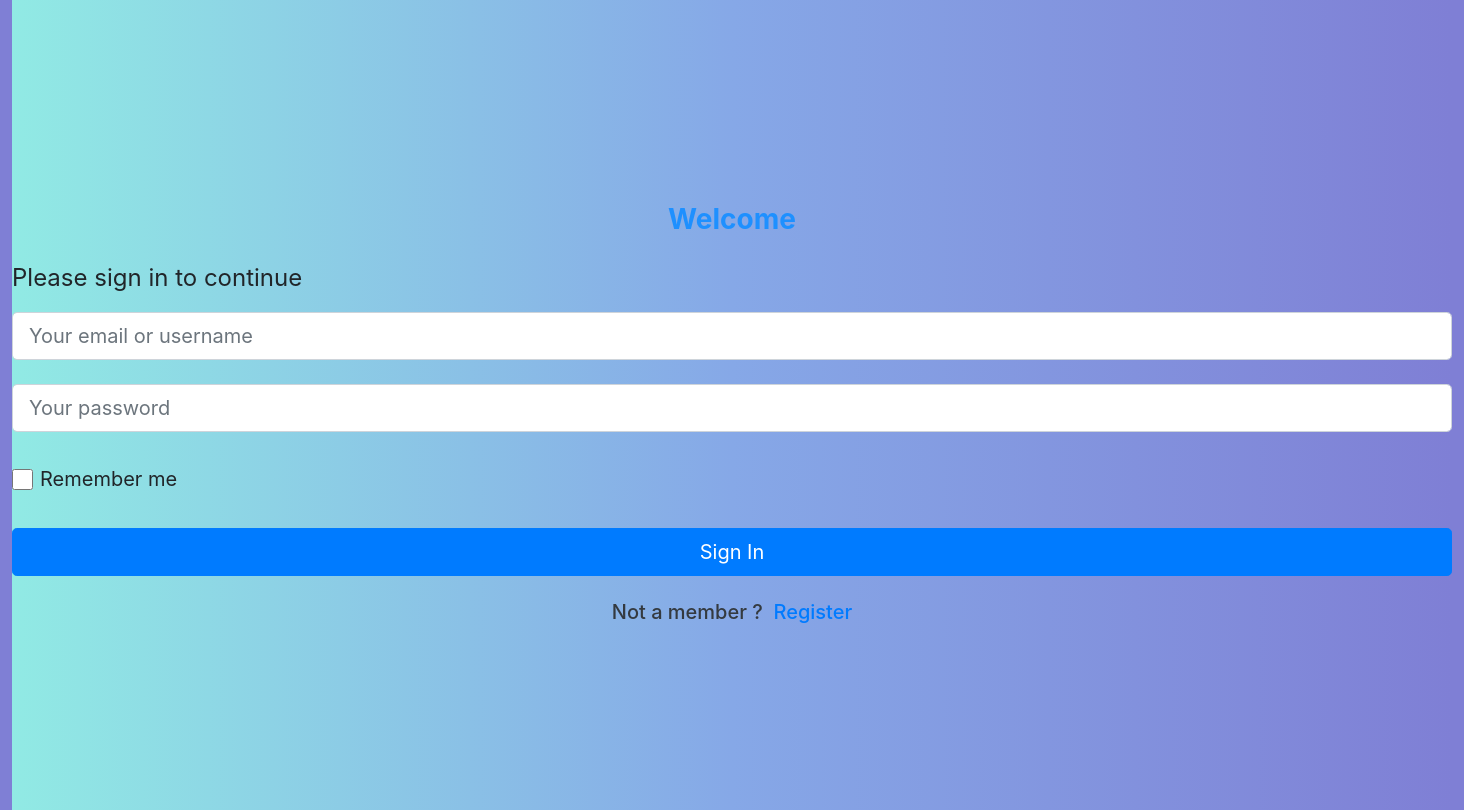
Scenario: Login Page › API returns with expected error for invalid credentials
Note: Fire events and verify state updates
Type "x@y.com" into the field with test id "email". click: {"x": 732, "y": 336}
box: x1=12 y1=312 x2=1452 y2=360
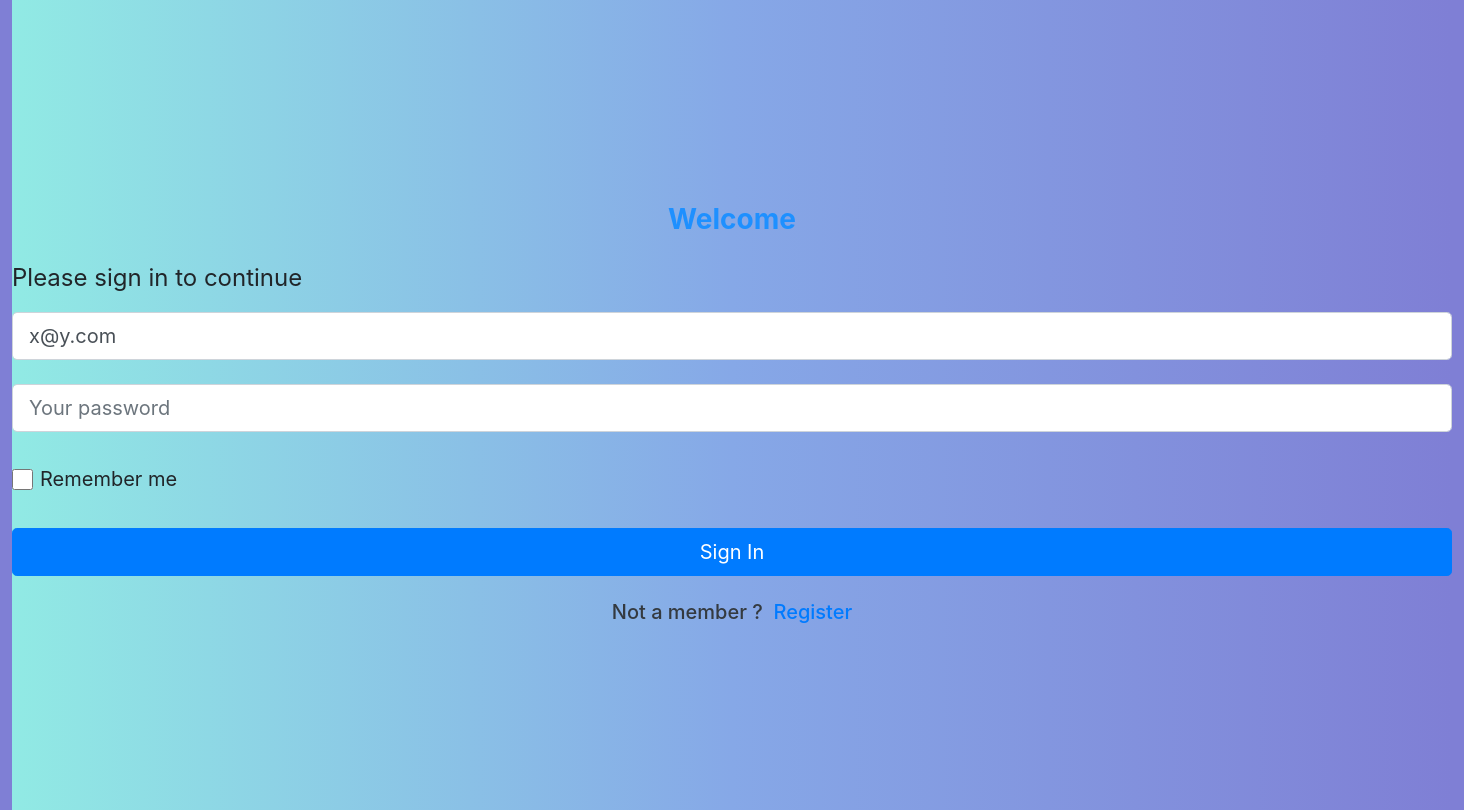
Type "12345678" into the password field with test id "password". click: {"x": 732, "y": 408}
box: x1=12 y1=384 x2=1452 y2=432
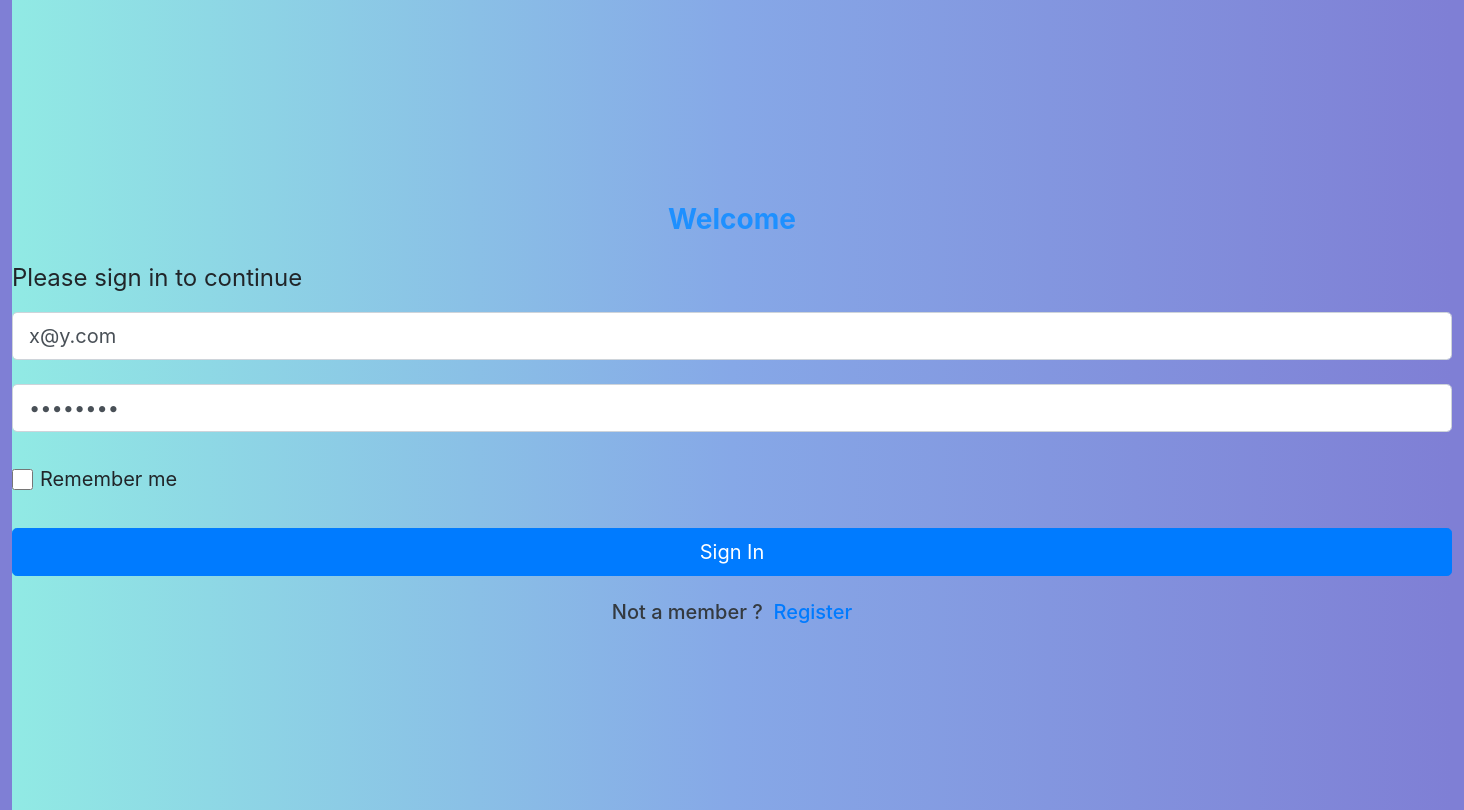
Note: Submit the form
Click the button with test id "submit-btn". click: {"x": 732, "y": 552}
box: x1=12 y1=528 x2=1452 y2=576
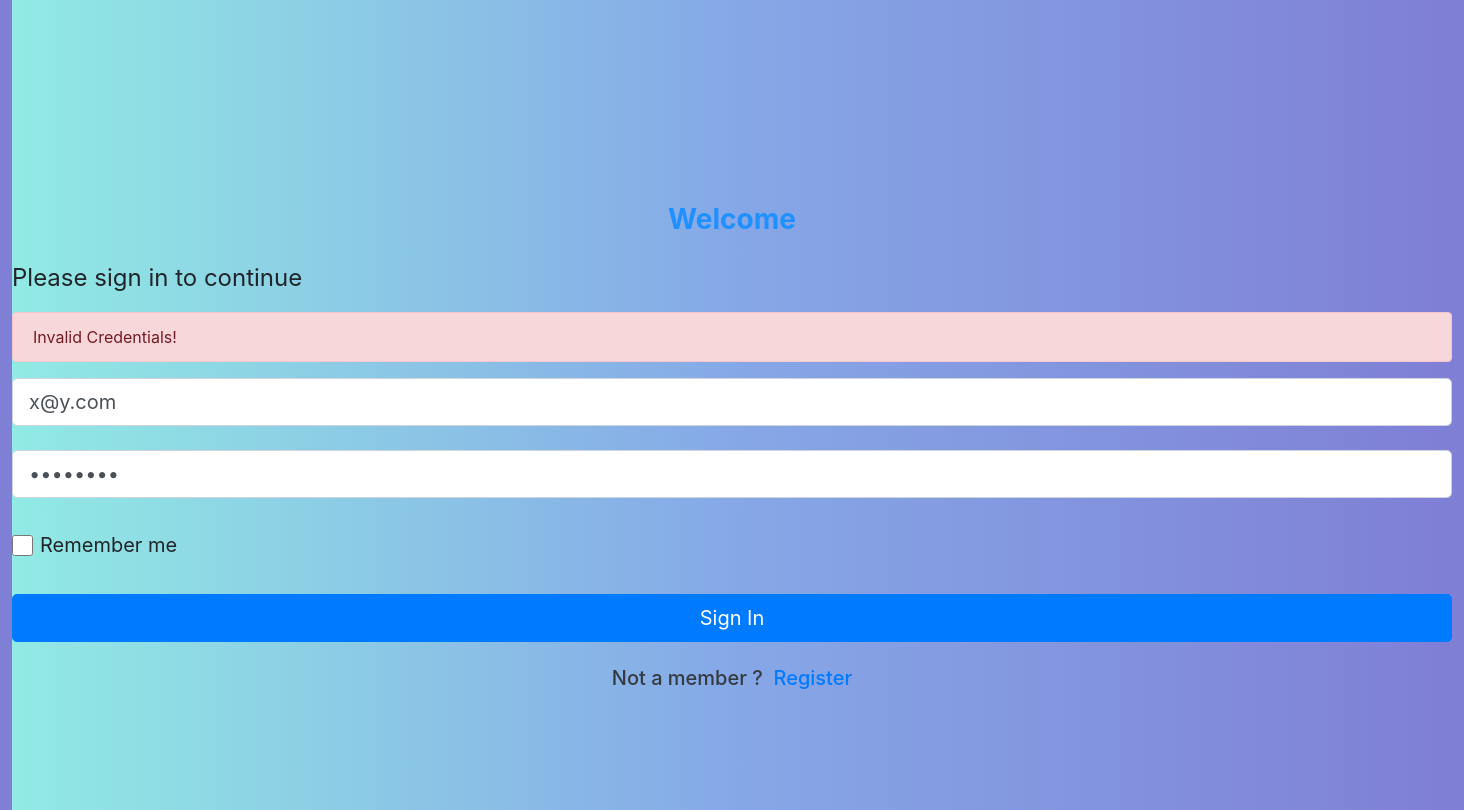
expect the message "Invalid Credentials!" is shown: met, box x1=12 y1=312 x2=1452 y2=362
expect the message with test id "response-error" reads "Invalid Credentials!": met, box x1=33 y1=327 x2=177 y2=347
